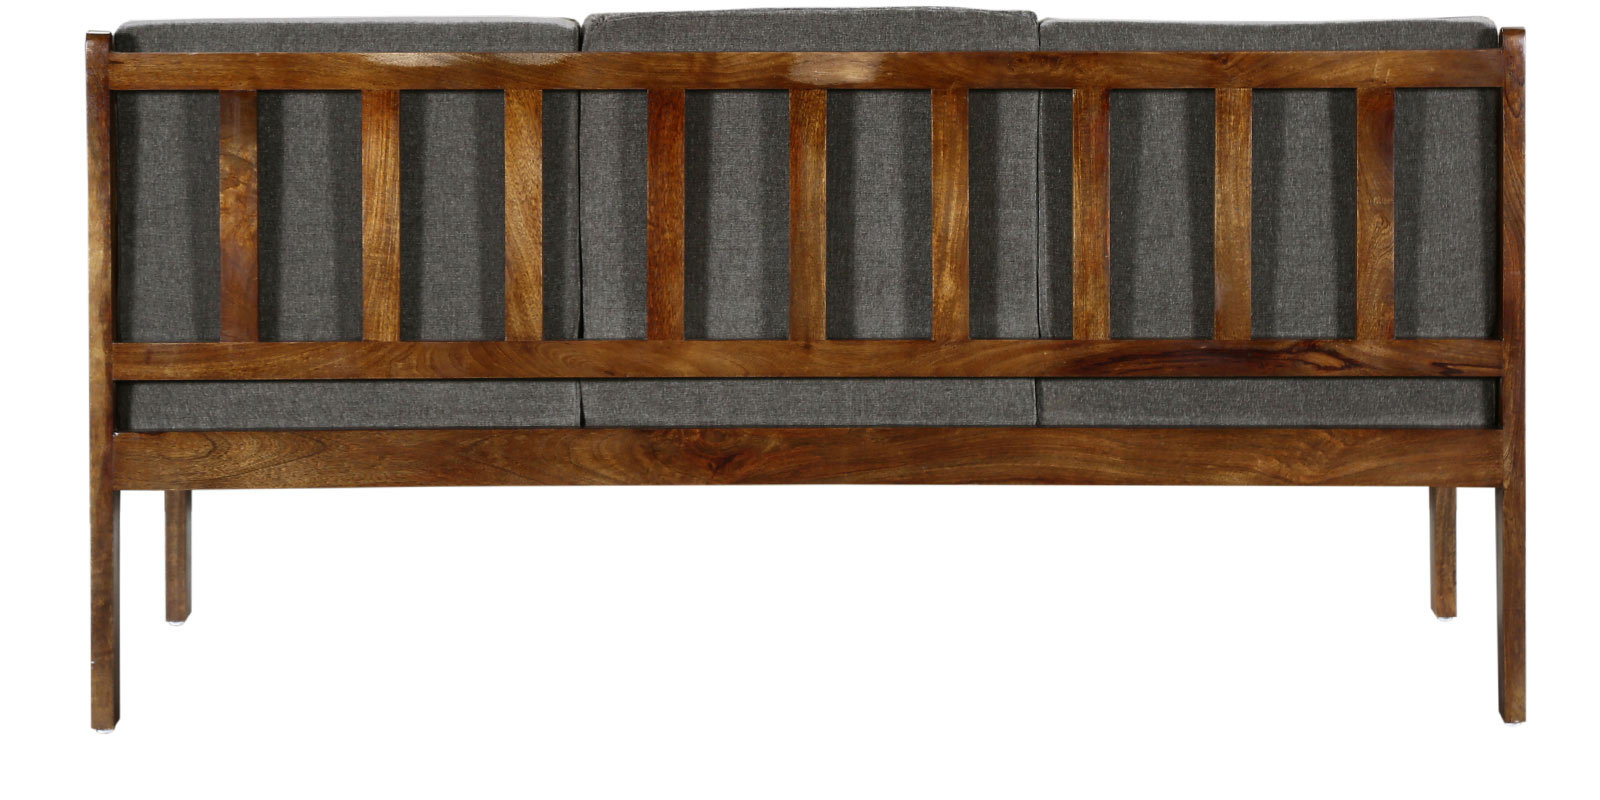Corvallis Three Seater Sofa in Provincial Teak Finish by Woodsworth: (55, 16, 1556, 728)
